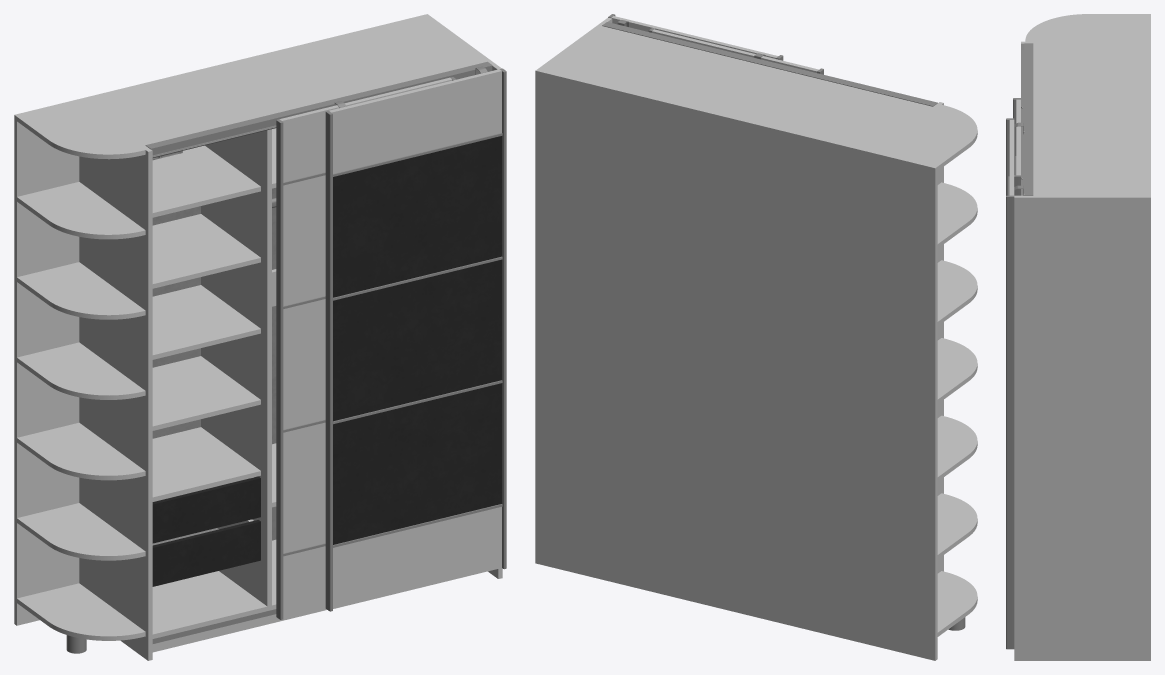
Rendered from Wardrobe.dae.
3 renders of one model, left to right at view 1: azimuth 30°, elevation 25°; view 2: azimuth 150°, elevation 25°; view 3: azimuth 270°, elevation 25°, orthographic. The views are drawn at different scales.
Visible parts, largest first — view 1: Wardrobe, WardrobeDoor2, WardrobeDoor1, WardrobeDrawer2, WardrobeDrawer1; view 2: Wardrobe, WardrobeDoor2, WardrobeDoor1; view 3: Wardrobe, WardrobeDoor2, WardrobeDoor1.
Part boxes in pixels (x1,y1,x2,y2): Wardrobe: [14, 14, 502, 660]; WardrobeDoor2: [325, 66, 506, 611]; WardrobeDoor1: [276, 77, 456, 619]; WardrobeDrawer2: [152, 519, 260, 586]; WardrobeDrawer1: [152, 476, 260, 543]; Wardrobe: [535, 17, 977, 660]; WardrobeDoor2: [608, 14, 783, 60]; WardrobeDoor1: [648, 28, 823, 74]; Wardrobe: [1014, 14, 1150, 660]; WardrobeDoor2: [1006, 118, 1024, 649]; WardrobeDoor1: [1013, 98, 1022, 195].
Bounding box in the file's own units: 1.89 × 0.6283 × 2.23.
